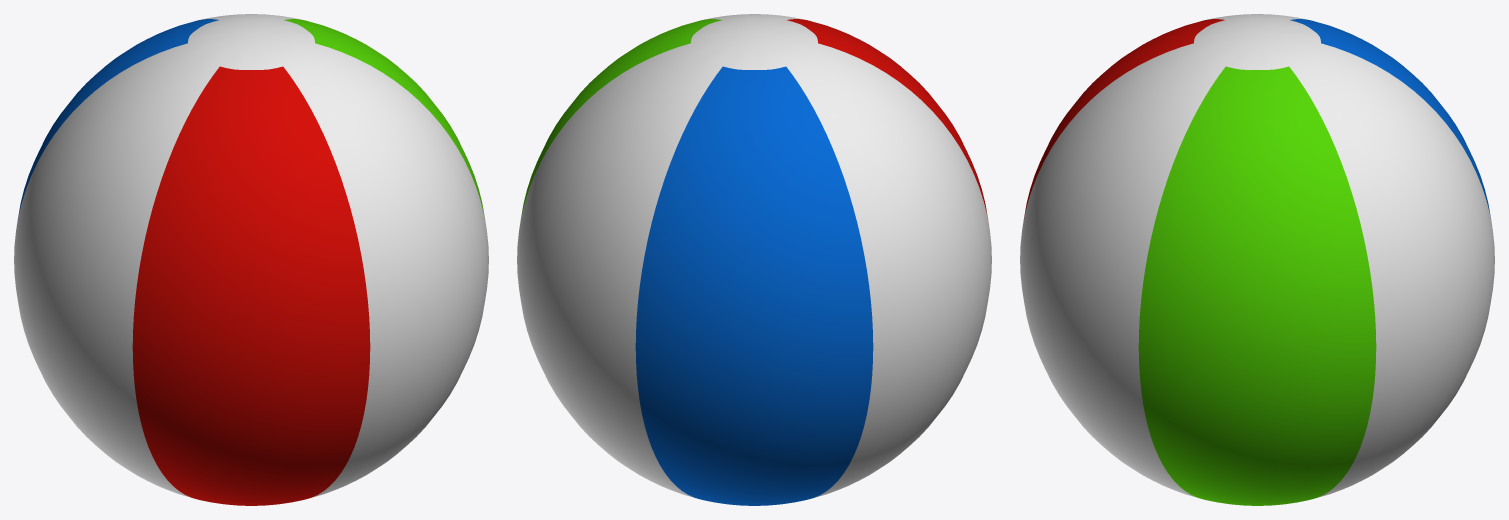
File: BeachBall.fbx
The picture shows the model from 3 angles, left to right: view 1: azimuth 30°, elevation 25°; view 2: azimuth 150°, elevation 25°; view 3: azimuth 270°, elevation 25°; orthographic projection.
Visible parts, largest first — view 1: Sphere; view 2: Sphere; view 3: Sphere.
Part boxes in pixels (x1,y1,x2,y2): Sphere: (14,14,488,505); Sphere: (517,14,991,505); Sphere: (1020,14,1494,505).
Bounding box in the file's own units: 190 × 199 × 190.
